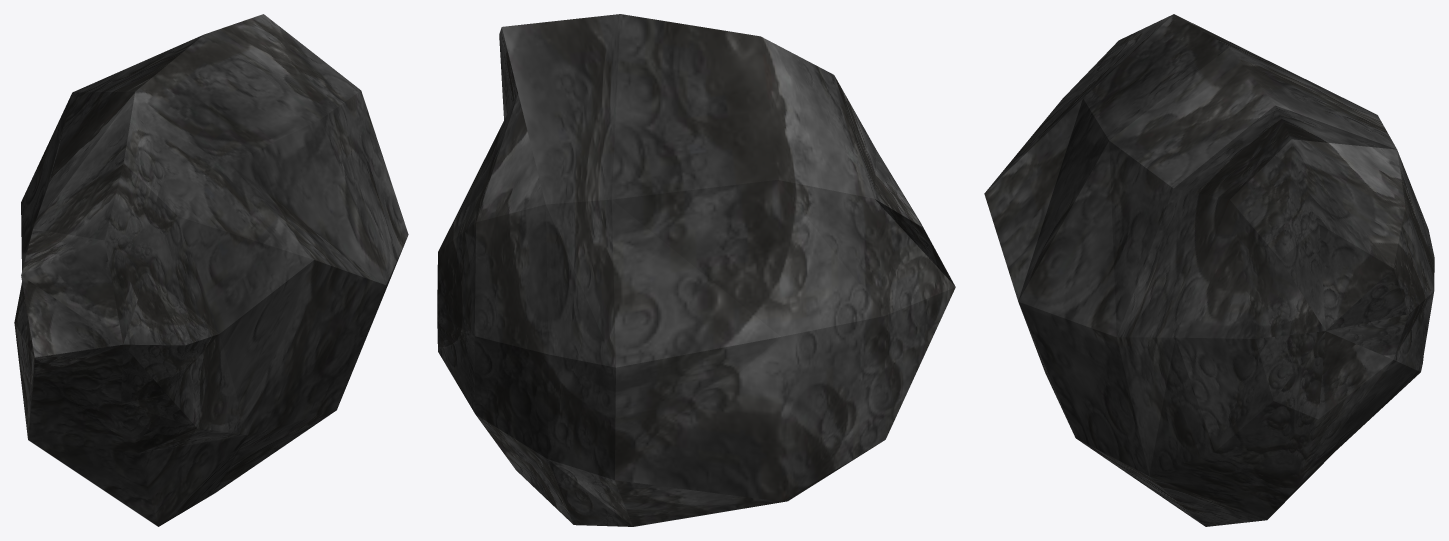
Rendered from asteroid03_wtf.obj.
3 views of the same model, side by side, from view 1: azimuth 30°, elevation 25°; view 2: azimuth 150°, elevation 25°; view 3: azimuth 270°, elevation 25° (orthographic). The views are drawn at different scales.
Visible parts, largest first — view 1: group2; view 2: group2; view 3: group2.
Boxes of the visible parts, x1,y1,x2,y2 form: group2: (14,14,408,526); group2: (437,14,955,526); group2: (984,14,1434,526).
Size of the model in its own units: 584 by 660 by 562.
